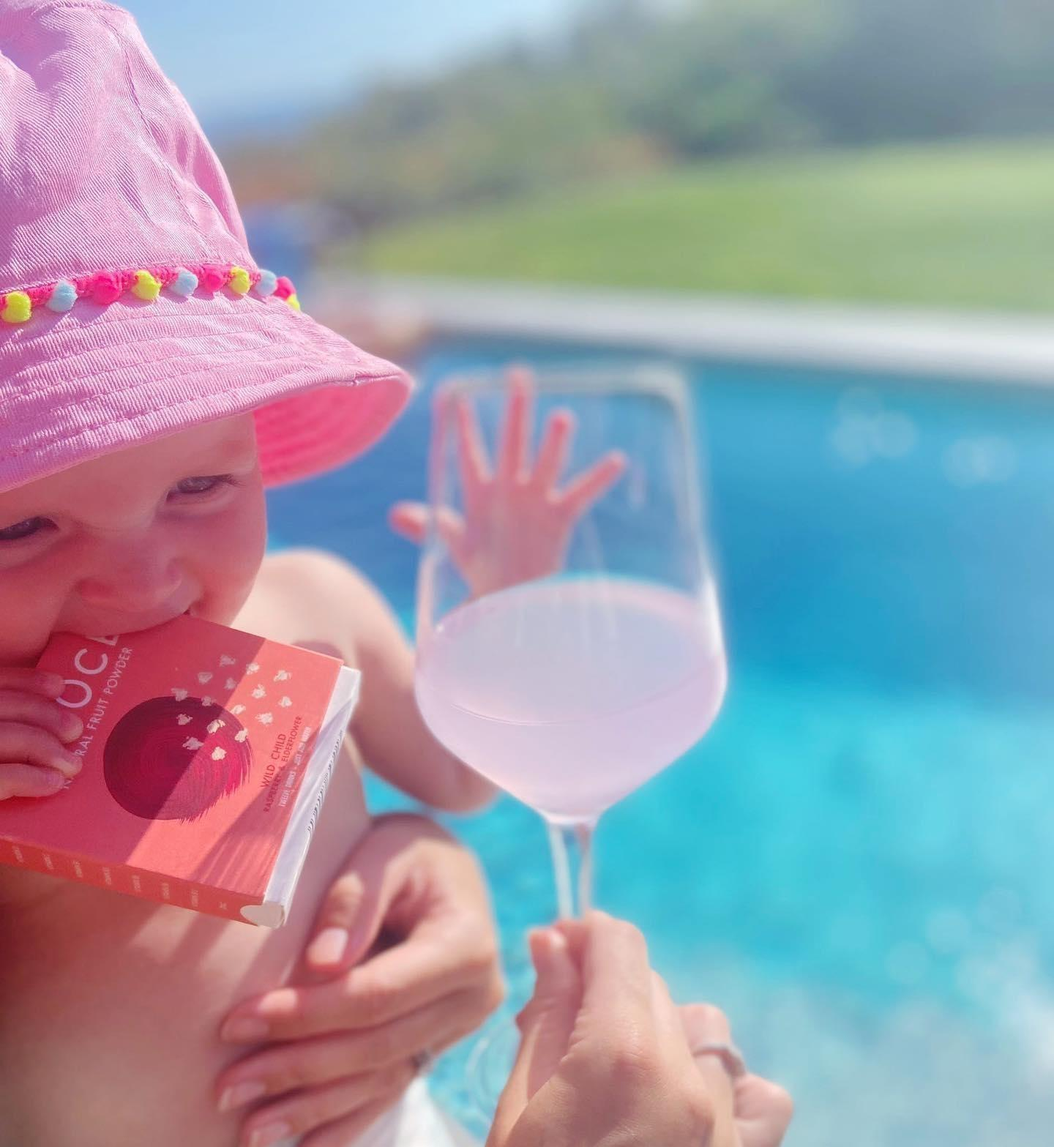glass-wine: (406, 352, 730, 994)
